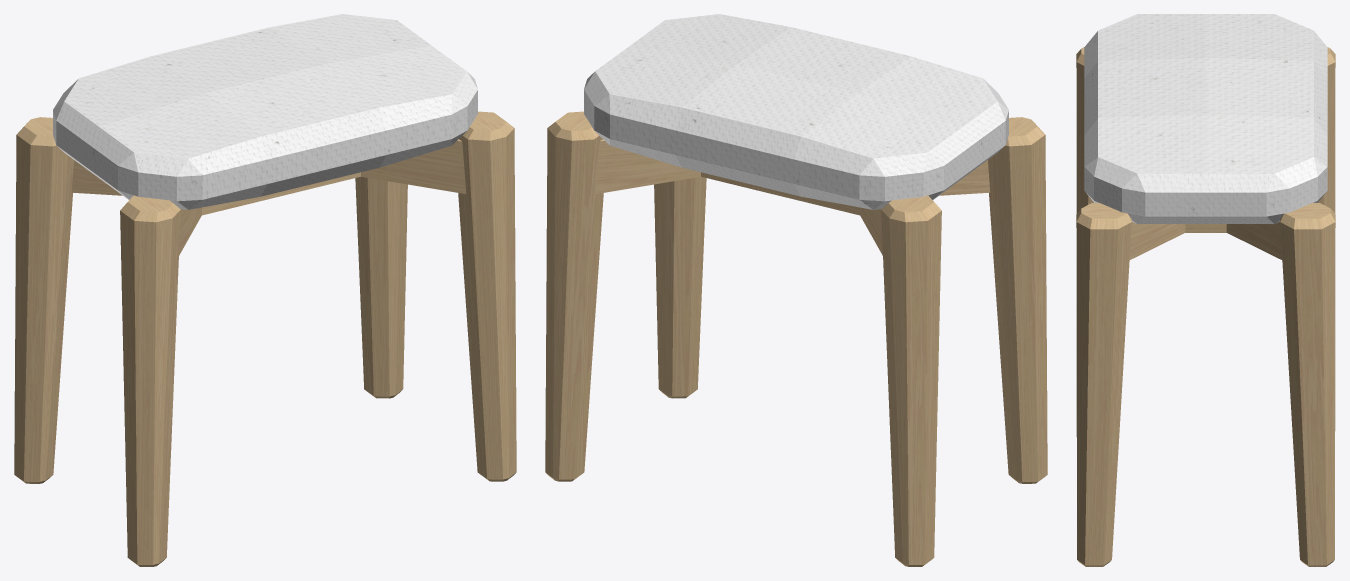
Rendered from chair.glb.
3 views of the same model, side by side, from view 1: azimuth 30°, elevation 25°; view 2: azimuth 150°, elevation 25°; view 3: azimuth 270°, elevation 25° (orthographic).
Parts seen in each view (by area): view 1: guide.001; view 2: guide.001; view 3: guide.001.
Part boxes in pixels (left/top/right/bottom): guide.001: left=14, top=14, right=516, bottom=566; guide.001: left=545, top=14, right=1047, bottom=566; guide.001: left=1076, top=14, right=1335, bottom=566.
Bounding box in the file's own units: 0.5 × 0.5 × 0.3.
2 materials, 2 textured.
